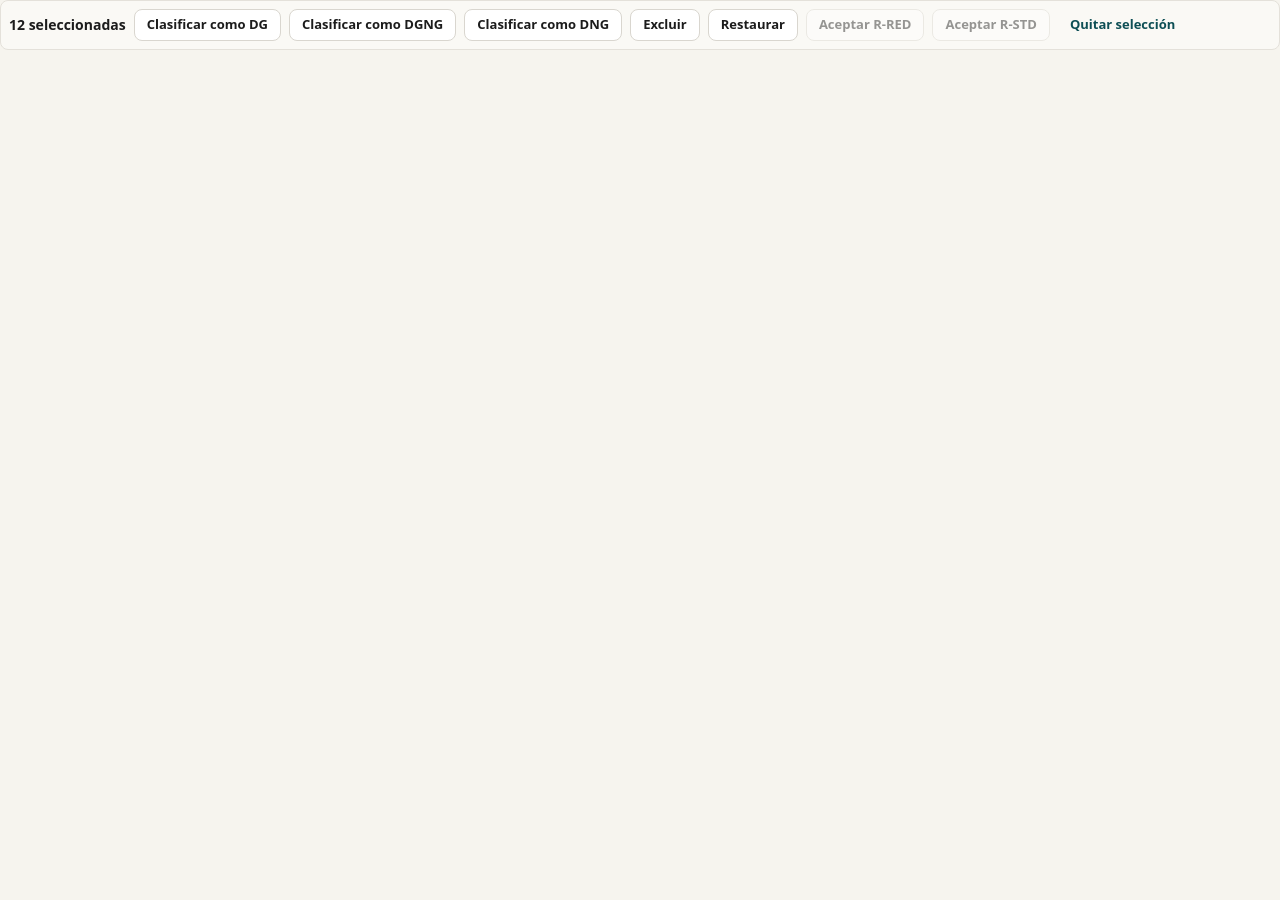
Scenario: BarraMasiva · excluir, restaurar y R-RED › excluir con motivo manda items y motivo en una petición; sin rechazadas limpia la selección
Click the button "Excluir" at (665, 25), box left=630, top=9, right=700, bottom=41
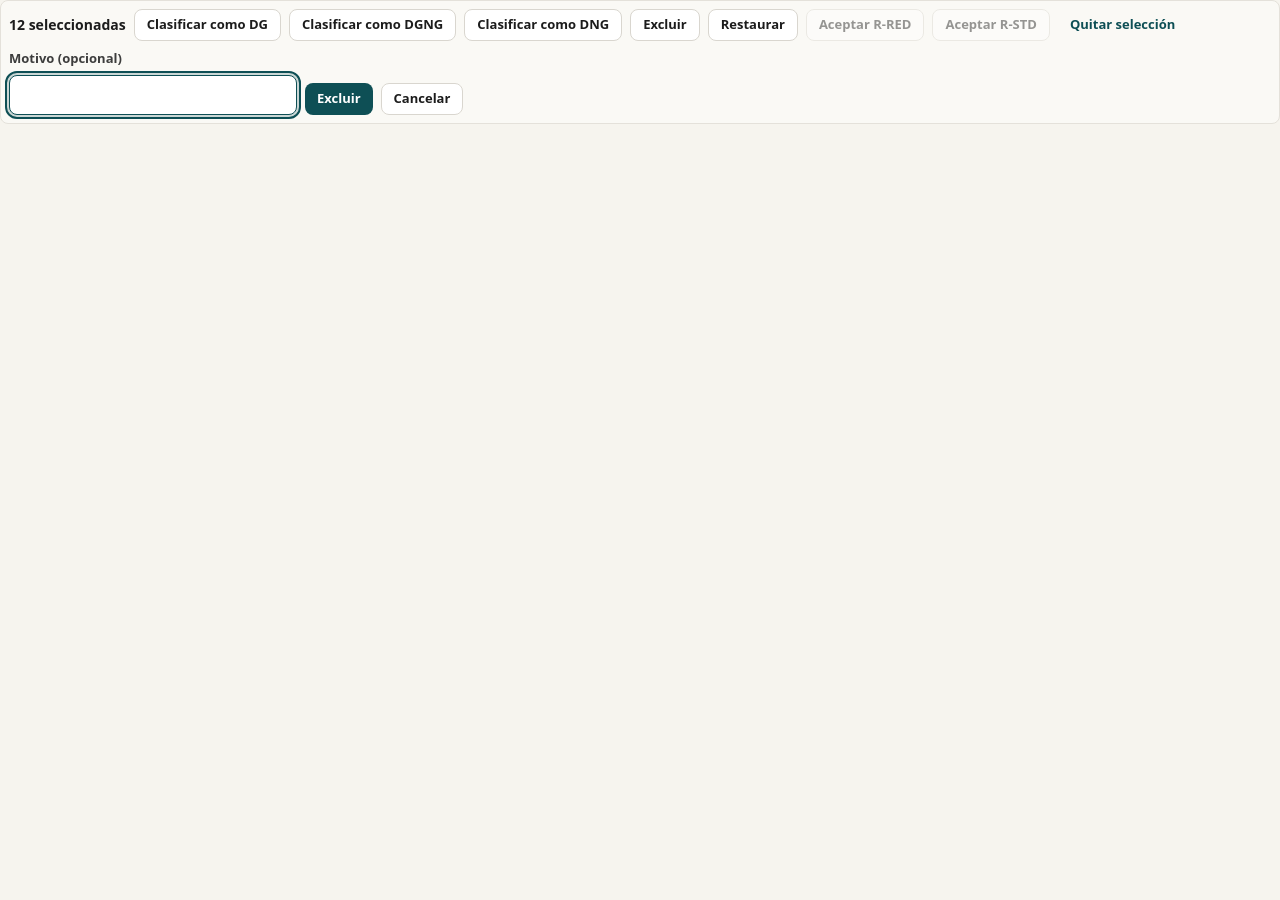
Type "Gasto personal" into the field labelled "Motivo (opcional)" at (153, 94), box left=9, top=74, right=297, bottom=114
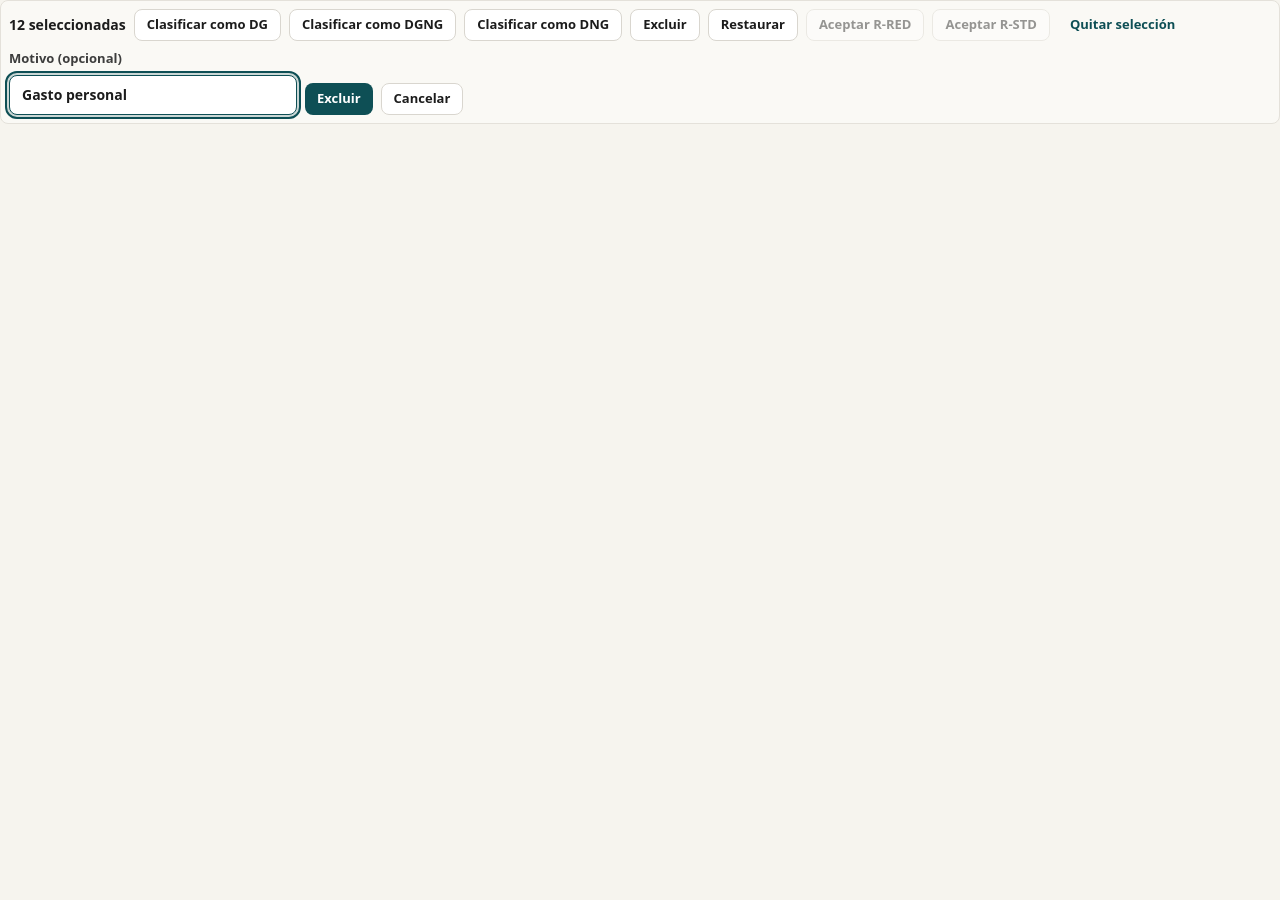
Click the button "Excluir" below "Motivo (opcional)" at (339, 98), box left=305, top=82, right=373, bottom=114
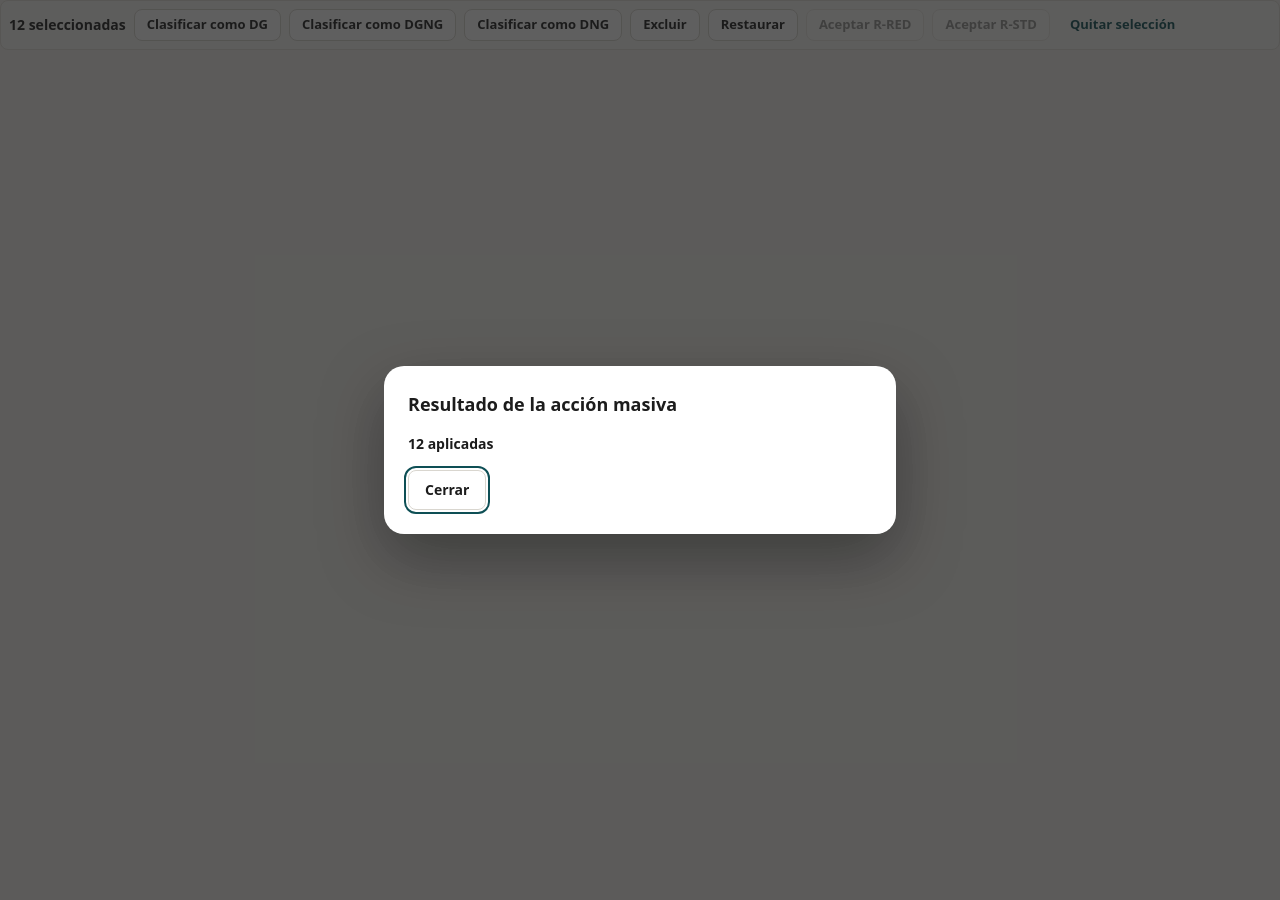
expect the dialog "Resultado de la acción masiva" is shown: met, box left=384, top=366, right=896, bottom=534
